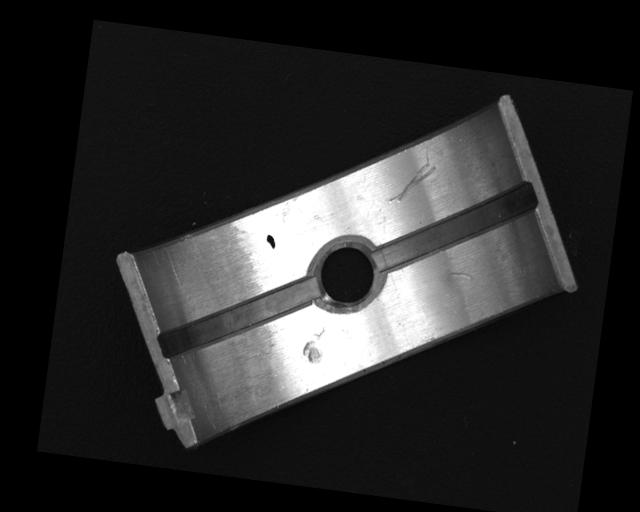blot: (265, 233, 277, 250)
bruise: (300, 323, 326, 366)
gap: (372, 164, 540, 291), (154, 259, 320, 377)
hole: (309, 234, 389, 314)
nick: (388, 157, 437, 209), (447, 269, 474, 281)
